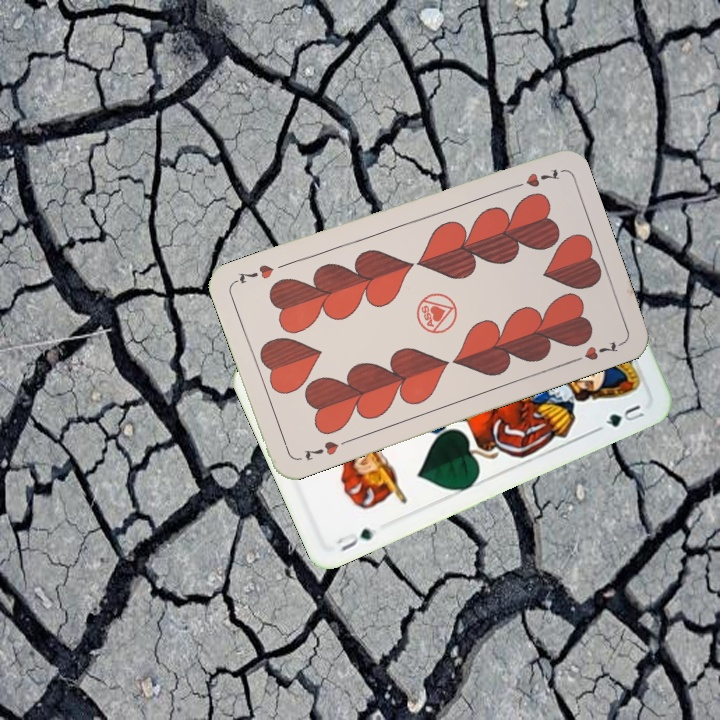GU: (332, 524, 380, 554)
H7: (506, 164, 562, 192), (300, 435, 352, 463)
